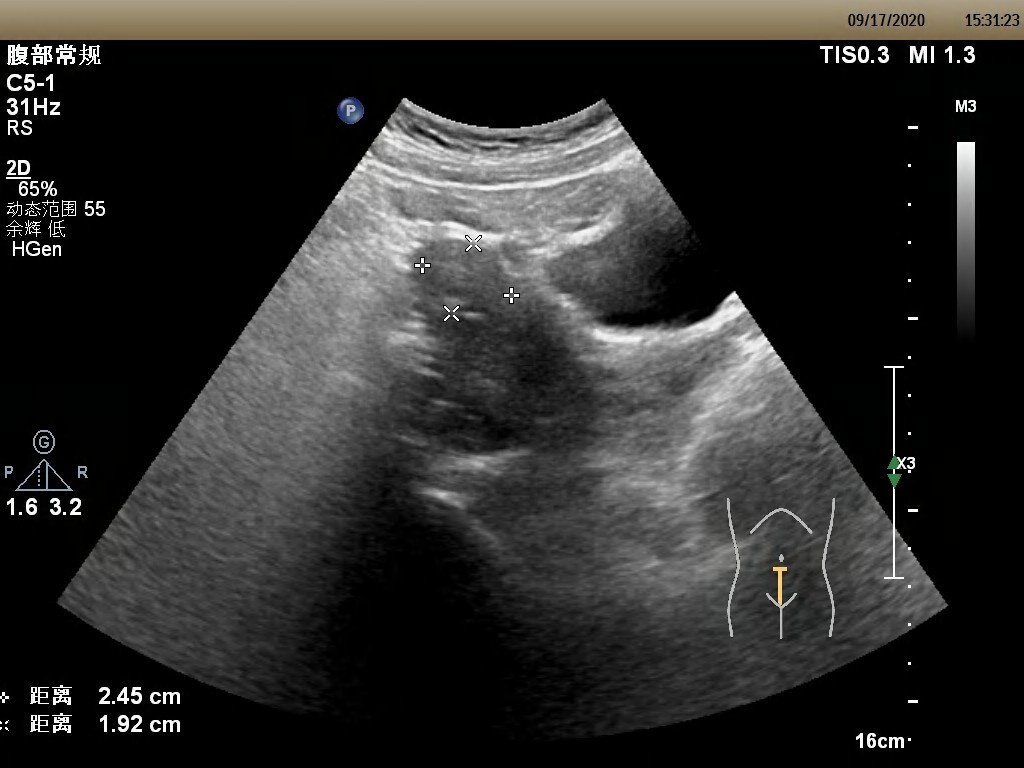肌瘤: (417, 238, 506, 312)
